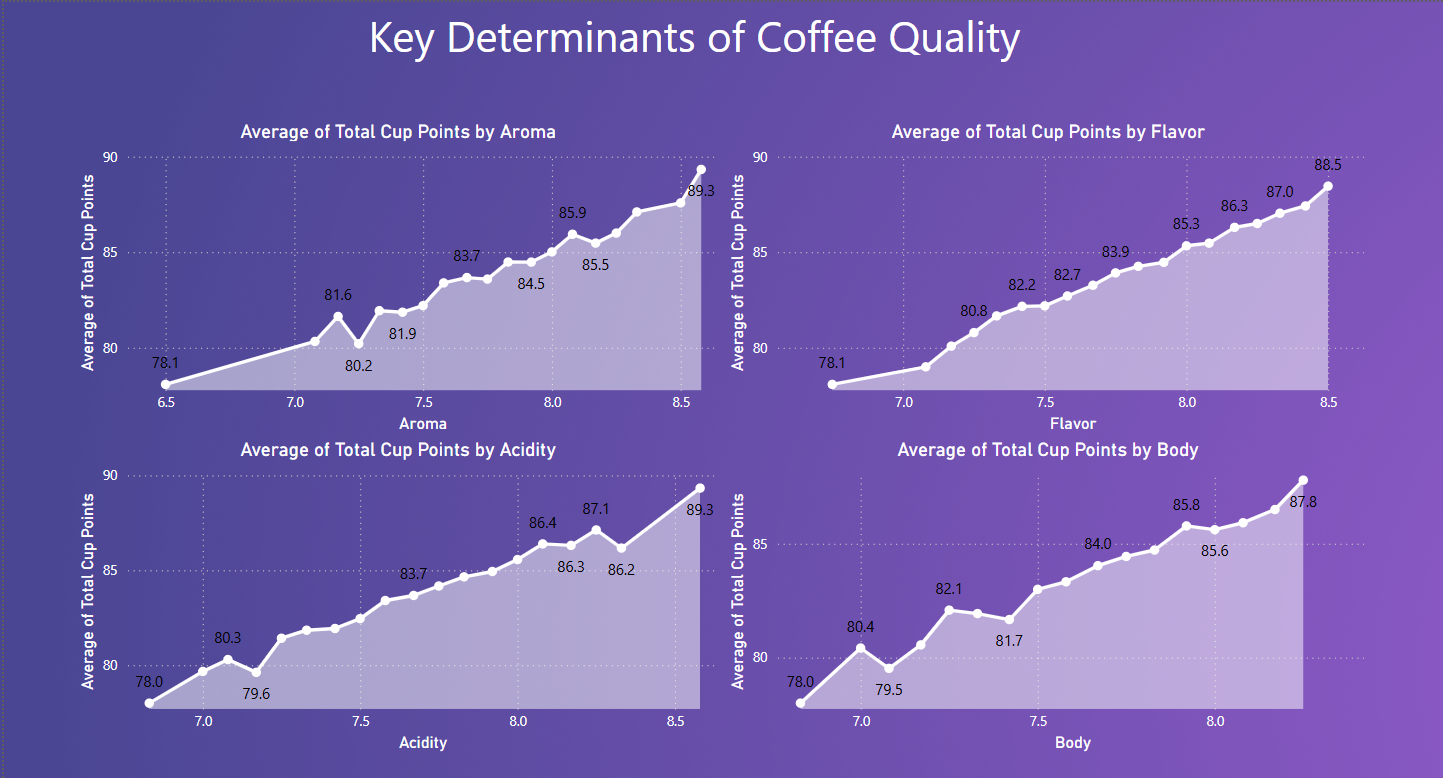

The page's visual inventory and layout, read from the dashboard file:
{"tool":"powerbi","page":{"name":"Page 1","canvas":[1280,720],"ordinal":1},"visuals":[{"type":"lineChart","fields":{"Category":["Coffee.Aroma"],"Y":["Avg(Coffee.Total Cup Points)"]},"box":[61,104.5,578.4,283.6],"z":0},{"type":"lineChart","fields":{"Category":["Coffee.Acidity"],"Y":["Avg(Coffee.Total Cup Points)"]},"box":[61,388.1,578.4,283.6],"z":1000},{"type":"lineChart","fields":{"Y":["Avg(Coffee.Total Cup Points)"],"Category":["Coffee.Flavor"]},"box":[639.4,104.5,578.4,283.6],"z":2000},{"type":"lineChart","fields":{"Y":["Avg(Coffee.Total Cup Points)"],"Category":["Coffee.Body"]},"box":[639.4,388.1,578.4,283.6],"z":3000},{"type":"textbox","box":[318.5,0,610.8,77.1],"z":4000}]}

Visuals, with their boxes on the page's 1280x720 design canvas (x1, y1, x2, y2). These are canvas units, not pixel positions in the 1443x778 screenshot, which may show the page scaled, cropped or inside an application window:
lineChart - Coffee.Aroma x Avg(Coffee.Total Cup Points): (61, 104, 639, 388)
lineChart - Coffee.Acidity x Avg(Coffee.Total Cup Points): (61, 388, 639, 672)
lineChart - Avg(Coffee.Total Cup Points) x Coffee.Flavor: (639, 104, 1218, 388)
lineChart - Avg(Coffee.Total Cup Points) x Coffee.Body: (639, 388, 1218, 672)
textbox: (318, 0, 929, 77)
